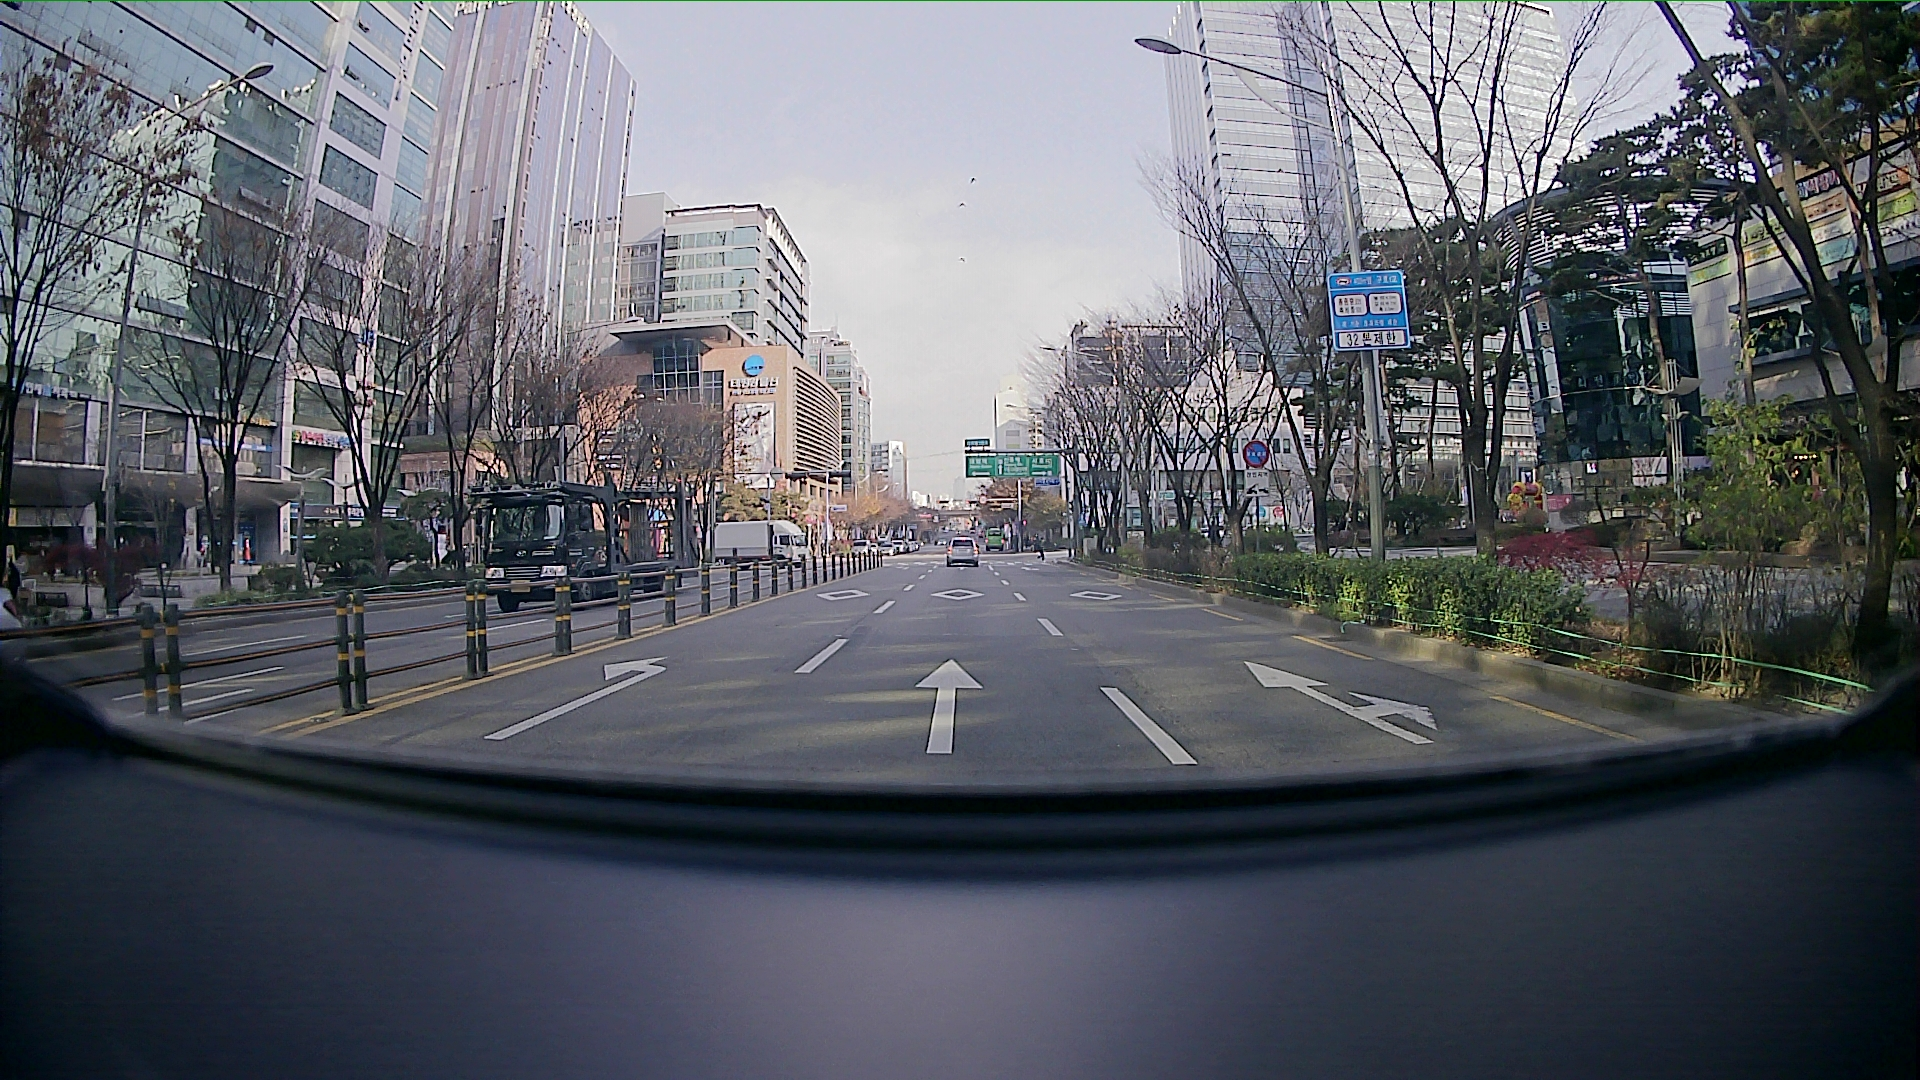trafficSignCircle: (1244, 440, 1269, 469)
